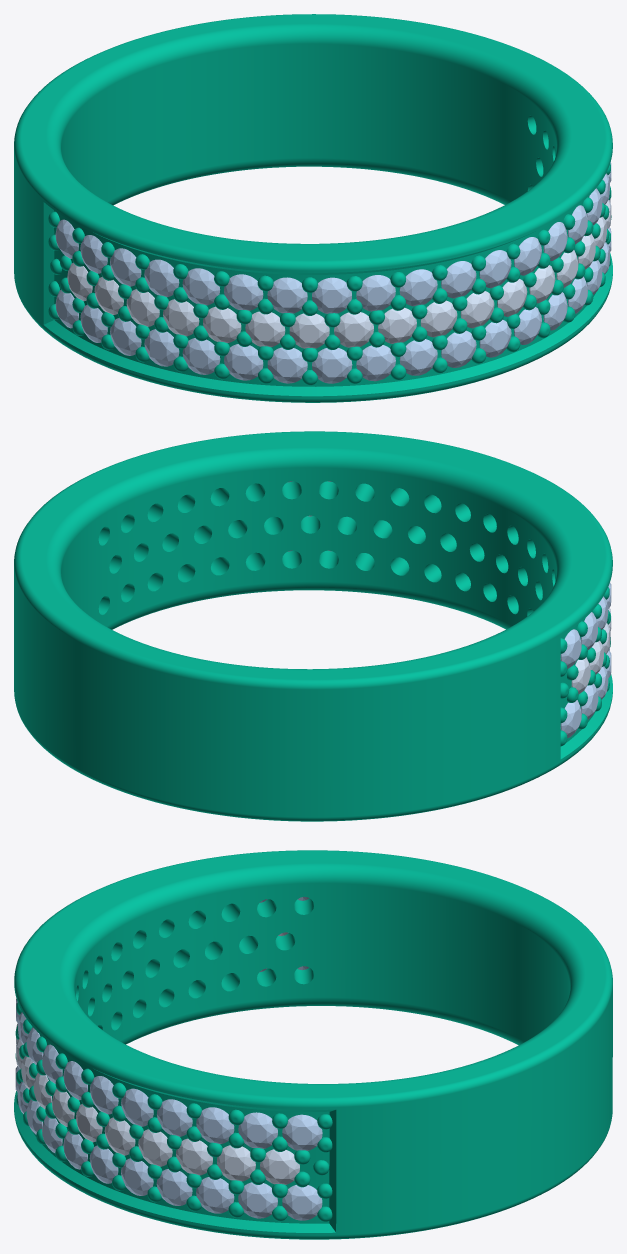
The picture shows the model from 3 angles, top to bottom: view 1: azimuth 30°, elevation 25°; view 2: azimuth 150°, elevation 25°; view 3: azimuth 270°, elevation 25°; orthographic projection.
Visible parts, largest first — view 1: VR55 - 19-10-24(base).3dm, Diamond_Round (×42); view 2: VR55 - 19-10-24(base).3dm, Diamond_Round (×2); view 3: VR55 - 19-10-24(base).3dm, Diamond_Round (×21).
Boxes of the visible parts, x1=… form: VR55 - 19-10-24(base).3dm: x1=14, y1=14, x2=612, y2=402; Diamond_Round (×42): x1=55, y1=219, x2=578, y2=383; VR55 - 19-10-24(base).3dm: x1=14, y1=431, x2=612, y2=821; Diamond_Round (×2): x1=560, y1=629, x2=581, y2=738; VR55 - 19-10-24(base).3dm: x1=14, y1=850, x2=612, y2=1239; Diamond_Round (×21): x1=52, y1=1061, x2=322, y2=1220.
Size of the model in its own units: 2.78 by 0.7292 by 2.78.
